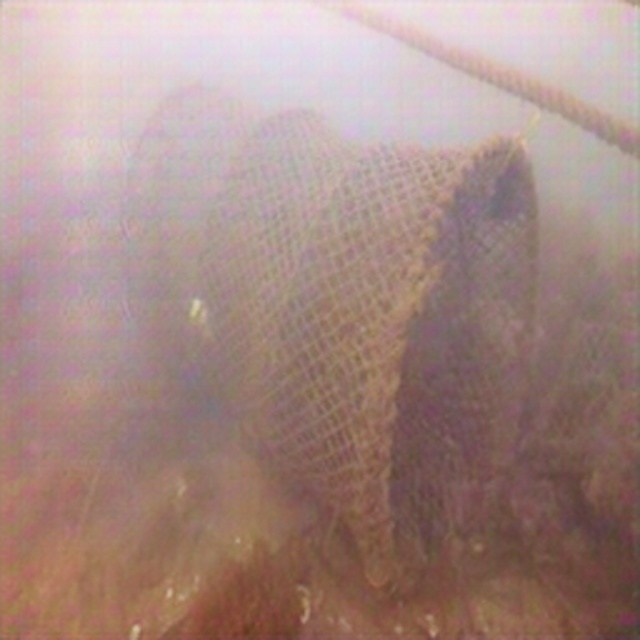mine: (117, 79, 543, 601), (541, 320, 640, 486)
